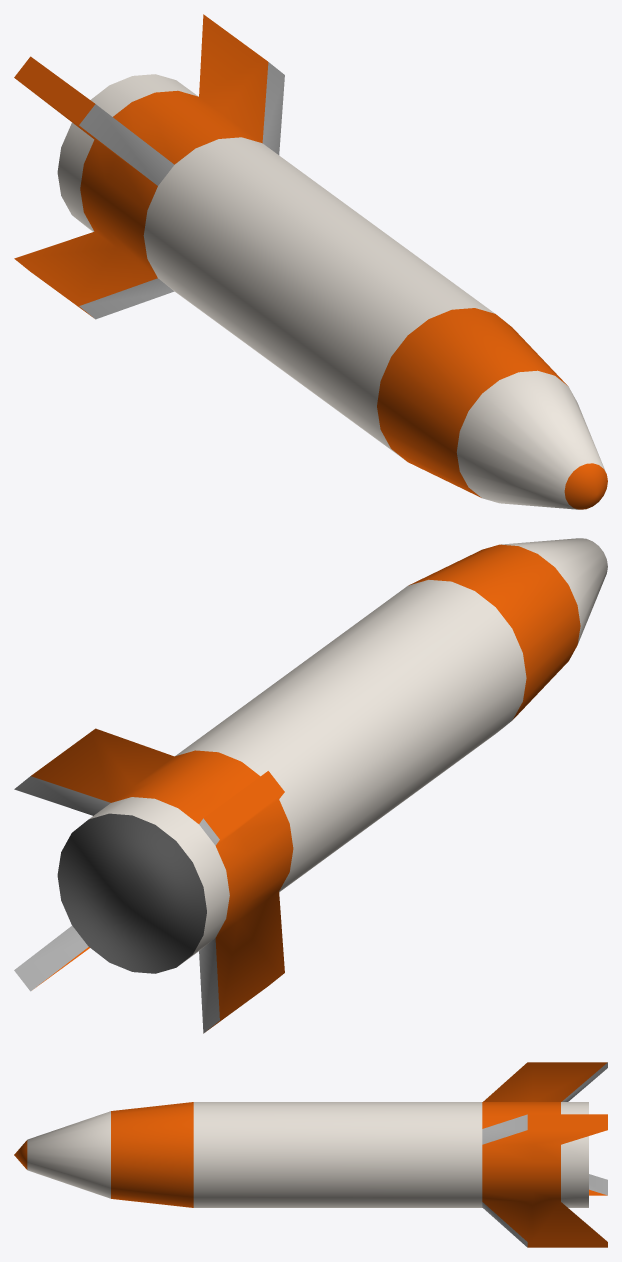
Rendered from Missile.fbx.
3 views of the same model, one above another, from view 1: azimuth 30°, elevation 25°; view 2: azimuth 150°, elevation 25°; view 3: azimuth 270°, elevation 25° (orthographic). The views are drawn at different scales.
Visible parts, largest first — view 1: pasted__Ohjus1; view 2: pasted__Ohjus1; view 3: pasted__Ohjus1.
Boxes of the visible parts, bbox=[...] form: pasted__Ohjus1: bbox=[14, 14, 607, 509]; pasted__Ohjus1: bbox=[14, 538, 607, 1033]; pasted__Ohjus1: bbox=[14, 1062, 607, 1247].
Size of the model in its own units: 0.4412 by 0.4412 by 1.78.
